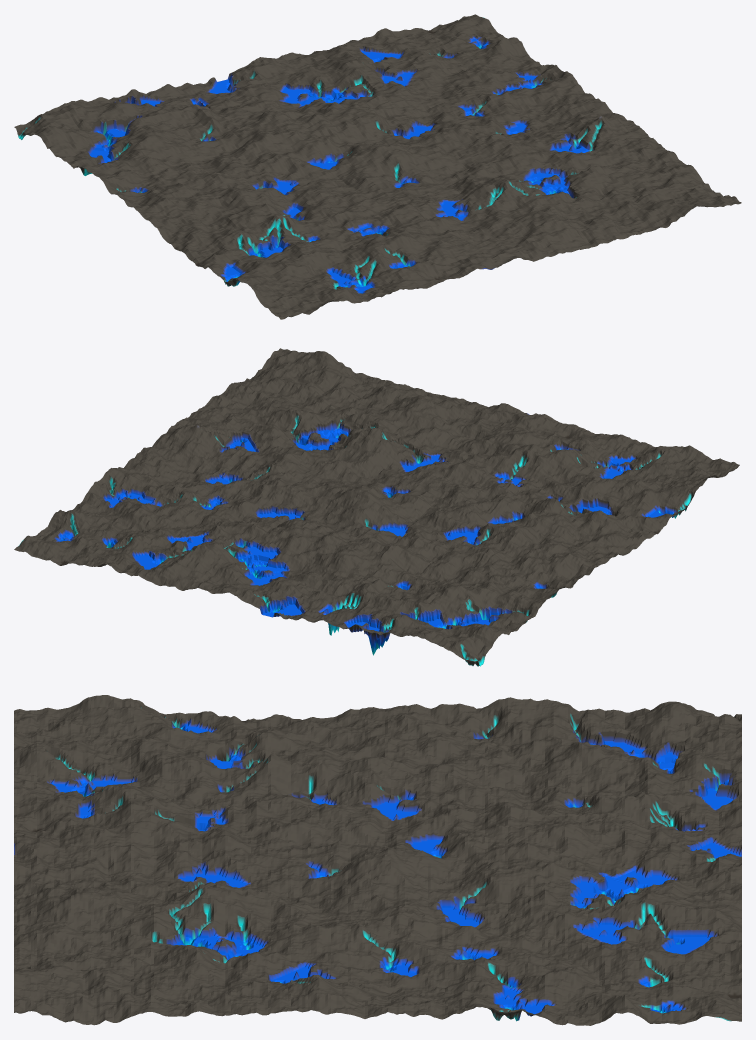
Rendered from terrain_MAGIC.obj.
3 renders of one model, top to bottom at view 1: azimuth 30°, elevation 25°; view 2: azimuth 150°, elevation 25°; view 3: azimuth 270°, elevation 25°, orthographic. The views are drawn at different scales.
Parts seen in each view (by area): view 1: MAGIC; view 2: MAGIC; view 3: MAGIC.
Boxes of the visible parts, x1,y1,x2,y2 form: MAGIC: (14,14,741,319); MAGIC: (14,348,739,666); MAGIC: (14,695,741,1025).
Bounding box in the file's own units: 255 × 24.04 × 255.
Materials: 1 (1 with a texture image).
